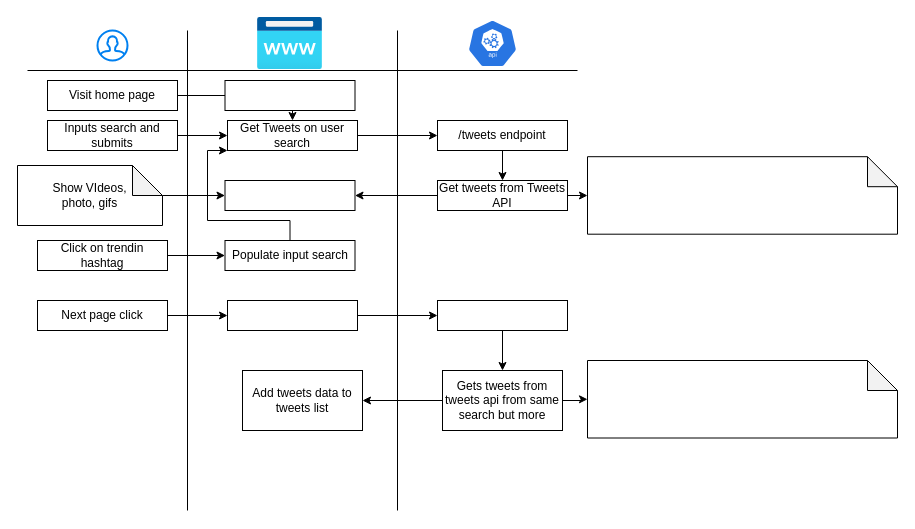
The diagram is 915 pixels wide and 529 high, and some of its shapes have lost their labels. Each missing label, with the centre of its shape:
"Endpoints for next tweet page" belongs at pixel 502 315.
"get URL: https://api.twitter.com/1.1/search/tweets.json params: q, count" belongs at pixel 742 195.
"get URL: https://api.twitter.com/1.1/search/tweets.json params: q, count, max-id" belongs at pixel 742 399.
"Home Page Render" belongs at pixel 289 95.
"Load tweets for next page" belongs at pixel 292 315.
"Show tweets List" belongs at pixel 289 195.
